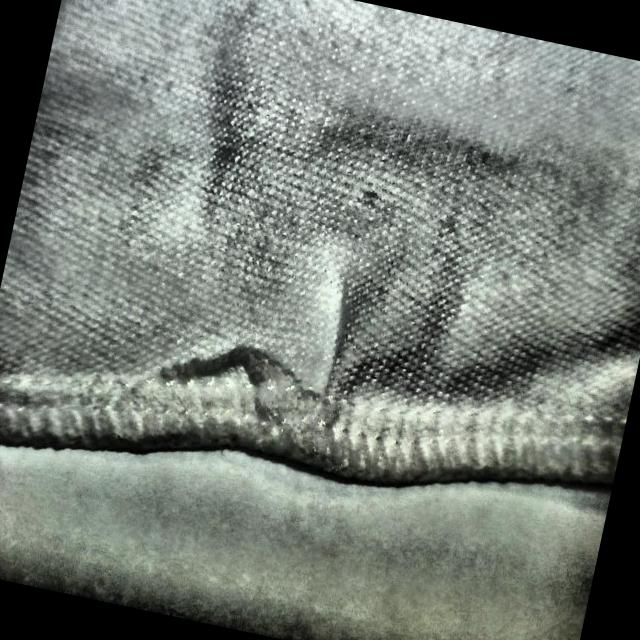gray stitch: (150, 280, 398, 484)
